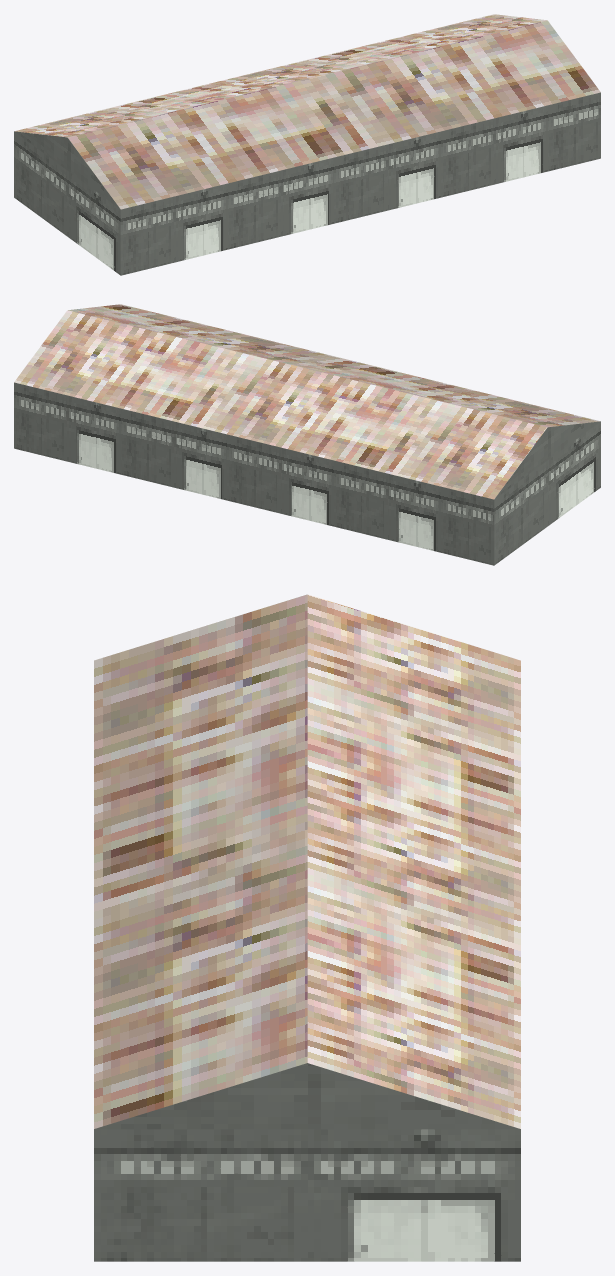
The model's file is uvmd-0129.glb.
3 renders of one model, top to bottom at view 1: azimuth 30°, elevation 25°; view 2: azimuth 150°, elevation 25°; view 3: azimuth 270°, elevation 25°, orthographic. The views are drawn at different scales.
Visible parts, largest first — view 1: uvmd-0129; view 2: uvmd-0129; view 3: uvmd-0129.
Boxes of the visible parts, x1=… form: uvmd-0129: x1=14, y1=14, x2=600, y2=275; uvmd-0129: x1=14, y1=304, x2=600, y2=565; uvmd-0129: x1=94, y1=594, x2=520, y2=1261.
Bounding box in the file's own units: 410 × 81 × 158.
Materials: 2 (2 with a texture image).
